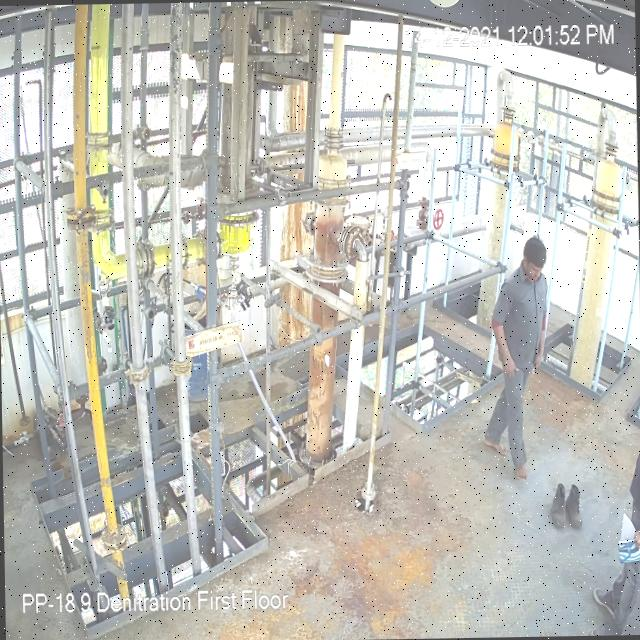boots: (563, 481, 587, 536), (546, 482, 567, 528)
no-boots: (482, 429, 508, 456), (512, 460, 530, 482)
